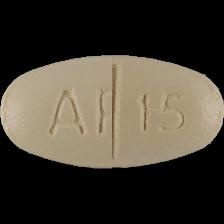63187-206: (0, 0, 224, 224)
